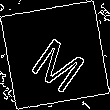M_NE: (21, 21, 89, 89)
